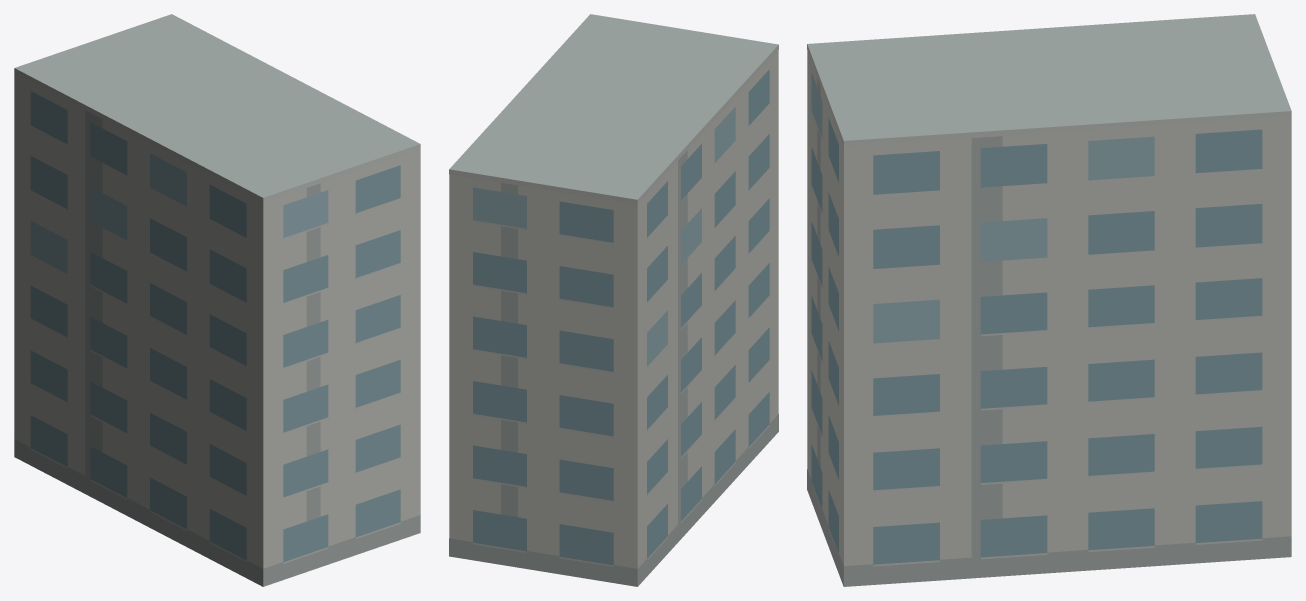
The model's file is survey-upis-32575227.glb.
3 renders of one model, left to right at view 1: azimuth 30°, elevation 25°; view 2: azimuth 150°, elevation 25°; view 3: azimuth 270°, elevation 25°, orthographic. The views are drawn at different scales.
Parts seen in each view (by area): view 1: survey-upis-32575227.tmp; view 2: survey-upis-32575227.tmp; view 3: survey-upis-32575227.tmp.
Boxes of the visible parts, x1,y1,x2,y2 form: survey-upis-32575227.tmp: (14, 14, 420, 586); survey-upis-32575227.tmp: (449, 14, 778, 586); survey-upis-32575227.tmp: (807, 14, 1291, 586).
Size of the model in its own units: 11.41 by 18.68 by 18.4.
